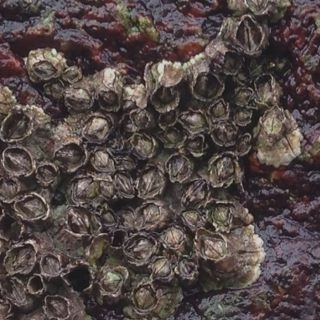Barnacle: (66, 204, 96, 234), (4, 148, 36, 176), (18, 193, 52, 219), (8, 243, 35, 275), (182, 177, 208, 208), (84, 114, 111, 143), (4, 112, 30, 141), (239, 18, 263, 49), (140, 167, 163, 198), (128, 234, 154, 261), (200, 233, 227, 259), (211, 156, 237, 183), (195, 71, 219, 100), (58, 143, 84, 169), (215, 118, 239, 146), (180, 111, 209, 134), (265, 108, 288, 136), (29, 57, 57, 80), (100, 268, 125, 293), (3, 277, 27, 303), (163, 224, 186, 251), (68, 85, 91, 111), (133, 285, 155, 311), (47, 295, 70, 318), (153, 85, 176, 108), (257, 74, 276, 101), (138, 203, 159, 227), (74, 175, 94, 199), (42, 254, 63, 276), (211, 203, 232, 225), (168, 158, 190, 179), (152, 256, 171, 280), (37, 163, 58, 184), (162, 128, 184, 148), (182, 212, 205, 231), (92, 148, 112, 169), (133, 136, 154, 156), (96, 208, 115, 228), (185, 137, 205, 156), (222, 51, 240, 72), (97, 181, 115, 201), (179, 258, 197, 277), (99, 88, 118, 106), (0, 178, 17, 198), (131, 109, 148, 129), (235, 106, 253, 124), (63, 67, 82, 84), (117, 173, 133, 193), (117, 211, 135, 228), (238, 134, 253, 153), (161, 111, 177, 128), (234, 87, 252, 102), (211, 100, 225, 119), (237, 69, 253, 84), (123, 98, 136, 111)
